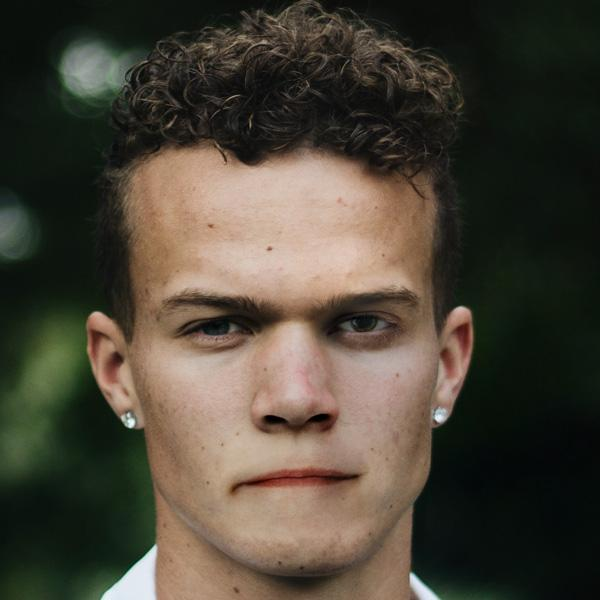Eyes: (165, 303, 266, 358), (319, 299, 412, 353)
